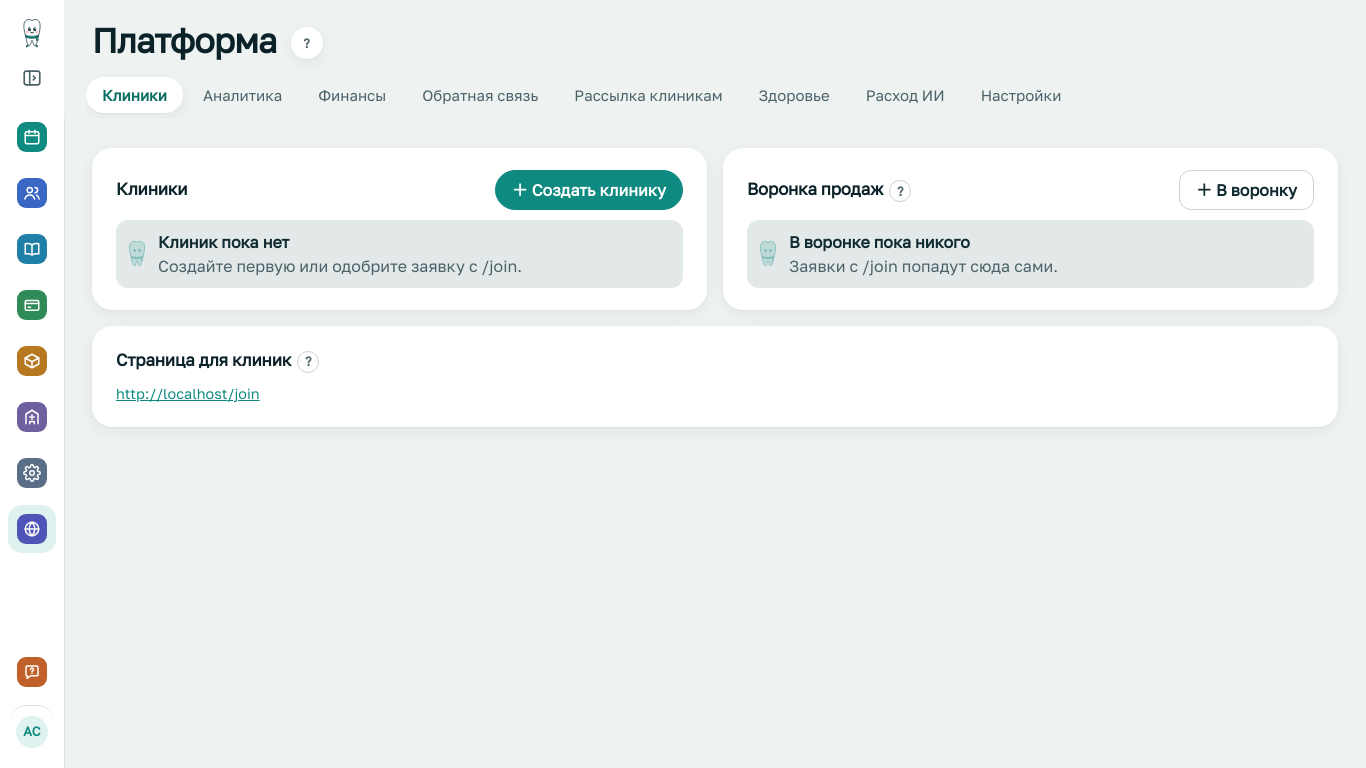
it: «Настройки»: тарифы и договор с клиниками — разделами; карточки по темам; вкладок «Тарифы» и «Договор» нет
Later steps or results of the test are not shown.
Expected: the navigation bar named "Разделы" is shown, [8,113,56,553]
What coordinates should you click on to do the following:
click the link "Настройки"
I would click on:
 (1021, 95)
Its box is [981,86,1061,104].
(page scrolled)
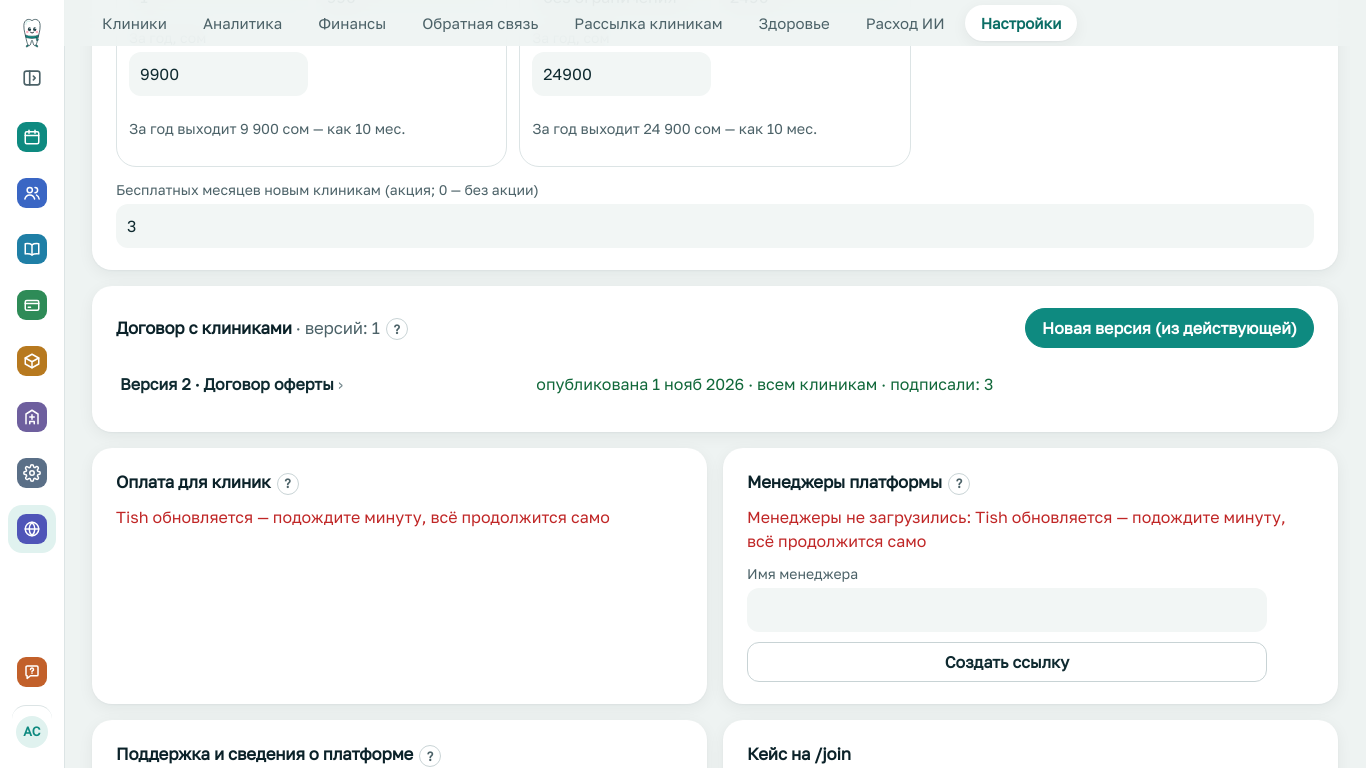
Expected: the button "Версия 2 · Договор оферты" is shown
Expected: the heading "Оплата для клиник ?" is shown, [116,472,299,495]
Expected: the heading "Менеджеры платформы ?" is shown, [747,472,970,495]
Версия договора — карточкой справа, как была во вкладке
What coordinates should you click on to do the following:
click the button "Версия 2 · Договор оферты"
I would click on:
 (232, 384)
Its box is [120,372,343,396].
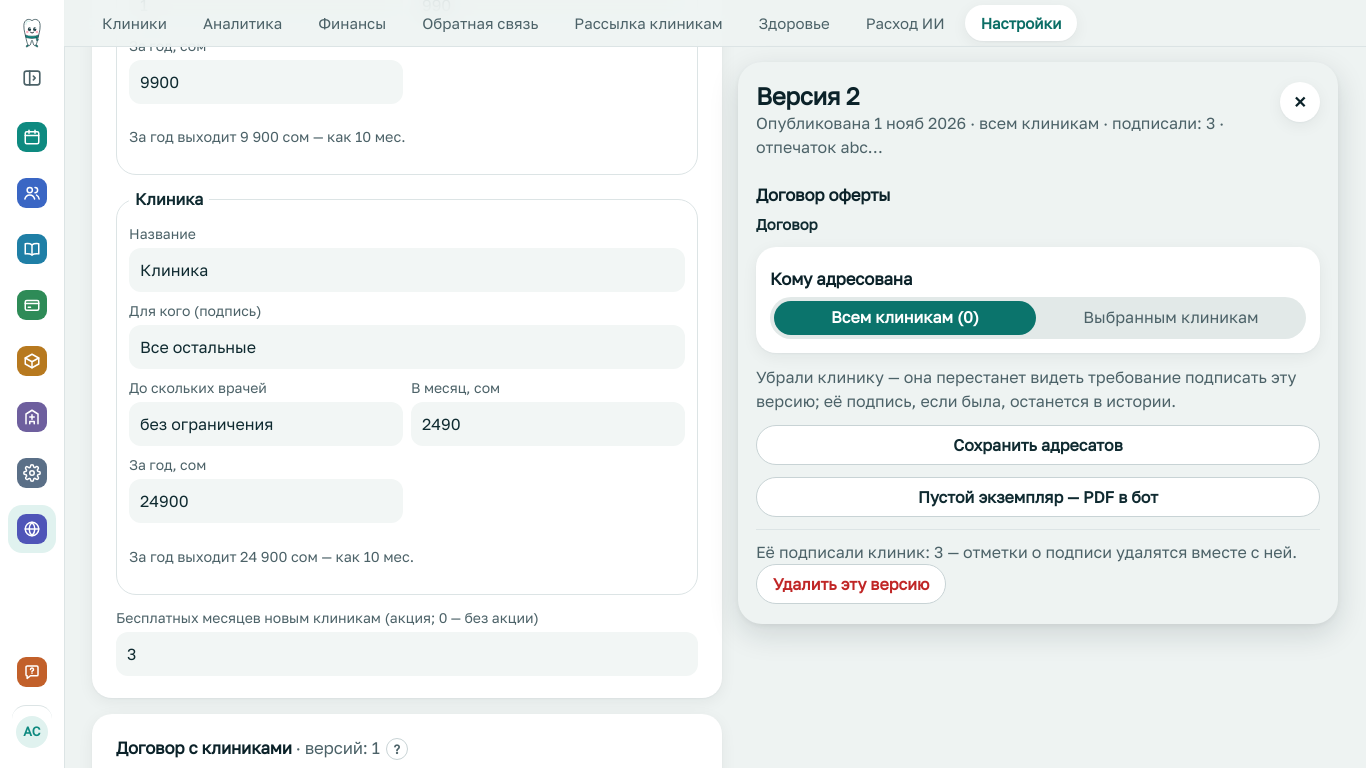
Expected: the text "подписали: 3" is shown, [756,113,1224,157]
